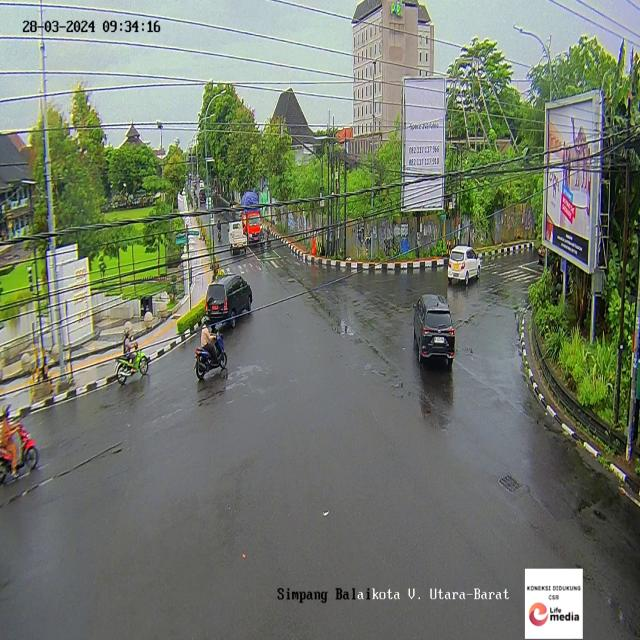car: (414, 294, 456, 359), (206, 273, 253, 330), (449, 249, 482, 284)
motorcycle: (0, 404, 39, 488), (193, 319, 227, 383), (115, 328, 149, 389), (215, 219, 223, 240)
truck: (242, 192, 262, 245), (228, 223, 247, 255)
